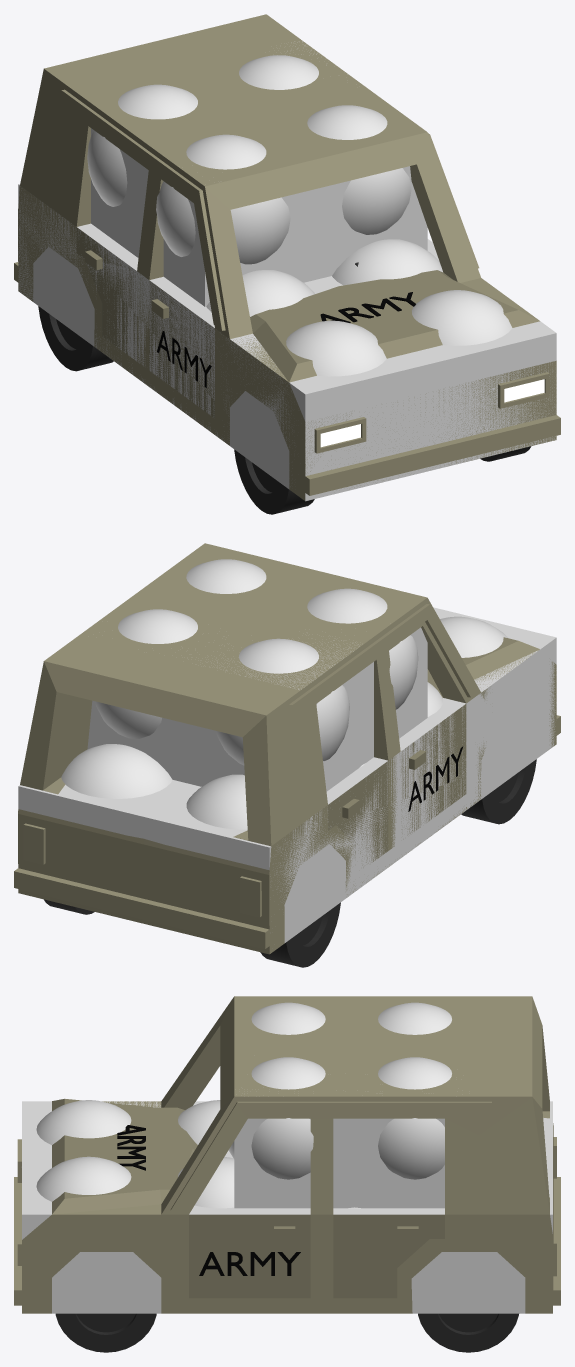
File: armycar.glb
The picture shows the model from 3 angles, top to bottom: view 1: azimuth 30°, elevation 25°; view 2: azimuth 150°, elevation 25°; view 3: azimuth 270°, elevation 25°; orthographic projection. The views are drawn at different scales.
Visible parts, largest first — view 1: body, Cube.006, Cube.002, Sphere.002, Sphere.001, door_2, Sphere.007, Sphere.003, Sphere, door_4, Sphere.010, Sphere.011 (+5 smaller); view 2: body, Cube.006, Cube.002, door_2, Sphere.007, Sphere.005, Sphere.002, Sphere.004, door_4, Sphere.006, Sphere.001, wheel (+3 smaller); view 3: body, Cube.006, Cube.002, door_1, door_3, Sphere.004, Sphere.001, wheel_fl, Cylinder.001, Sphere, Sphere.003, Sphere.007 (+5 smaller).
Boxes of the visible parts, box(x1,y1,x2,y2) form: body: box(14, 14, 560, 500); Cube.006: box(18, 184, 556, 501); Cube.002: box(91, 41, 427, 306); Sphere.002: box(156, 134, 290, 264); Sphere.001: box(307, 105, 411, 234); door_2: box(149, 281, 214, 418); Sphere.007: box(87, 84, 197, 206); Sphere.003: box(286, 320, 386, 420); Sphere: box(412, 290, 512, 390); door_4: box(76, 227, 136, 360); Sphere.010: box(332, 239, 442, 285); Sphere.011: box(206, 270, 314, 316); body: box(14, 543, 560, 954); Cube.006: box(18, 607, 556, 942); Cube.002: box(87, 627, 427, 791); door_2: box(400, 704, 466, 839); Sphere.007: box(216, 638, 349, 765); Sphere.005: box(61, 744, 172, 798); Sphere.002: box(307, 588, 418, 709); Sphere.004: box(95, 609, 197, 738); door_4: box(328, 761, 388, 867); Sphere.006: box(186, 774, 247, 829); Sphere.001: box(186, 559, 266, 593); wheel: box(260, 902, 340, 967); body: box(14, 996, 560, 1313); Cube.006: box(22, 1101, 552, 1313); Cube.002: box(234, 1118, 444, 1208); door_1: box(189, 1214, 310, 1298); door_3: box(333, 1214, 444, 1298); Sphere.004: box(378, 1057, 451, 1179); Sphere.001: box(228, 1057, 325, 1179); wheel_fl: box(55, 1313, 156, 1352); Cylinder.001: box(418, 1313, 518, 1352); Sphere: box(36, 1156, 131, 1201); Sphere.003: box(21, 1100, 131, 1167); Sphere.007: box(378, 1002, 451, 1034).
Bounding box in the file's own units: 1.28 × 1.31 × 2.49.
